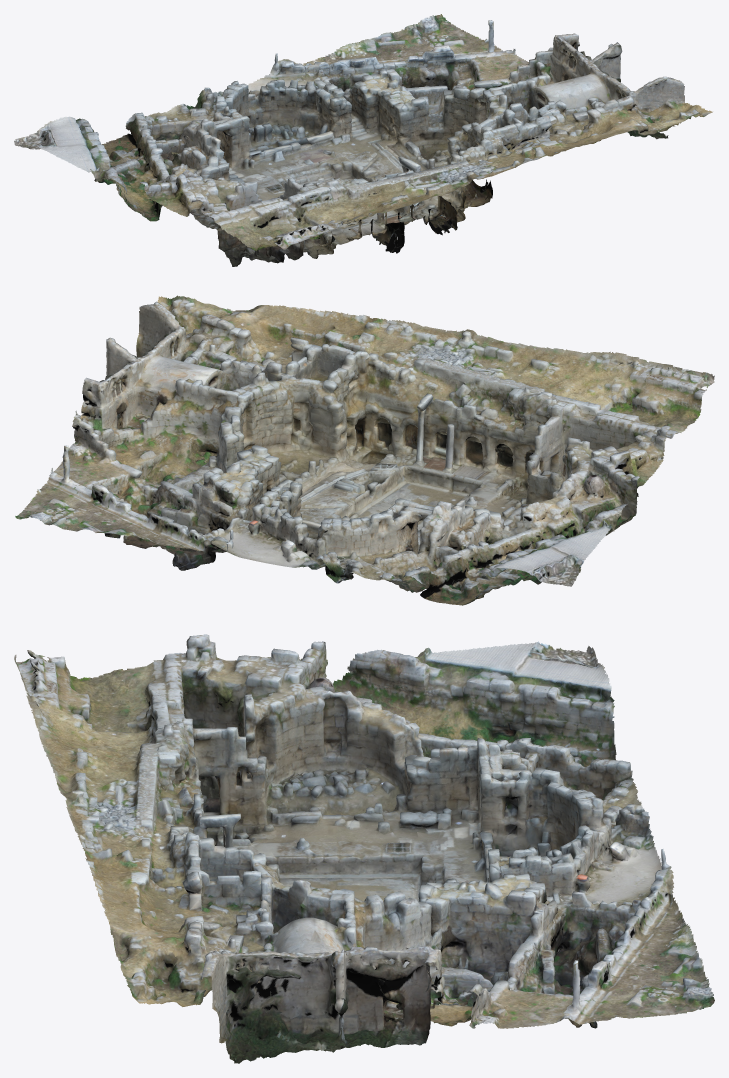
The model's file is ancient_corinth_-_peirene_fountain.glb.
3 renders of one model, top to bottom at view 1: azimuth 30°, elevation 25°; view 2: azimuth 150°, elevation 25°; view 3: azimuth 270°, elevation 25°, orthographic. The views are drawn at different scales.
Visible parts, largest first — view 1: Object_2; view 2: Object_2; view 3: Object_2.
Part boxes in pixels (x1=…): Object_2: x1=14, y1=14, x2=712, y2=266; Object_2: x1=15, y1=295, x2=714, y2=605; Object_2: x1=14, y1=634, x2=714, y2=1063.
Bounding box in the file's own units: 47.58 × 9.19 × 37.49.
1 material, 1 textured.
